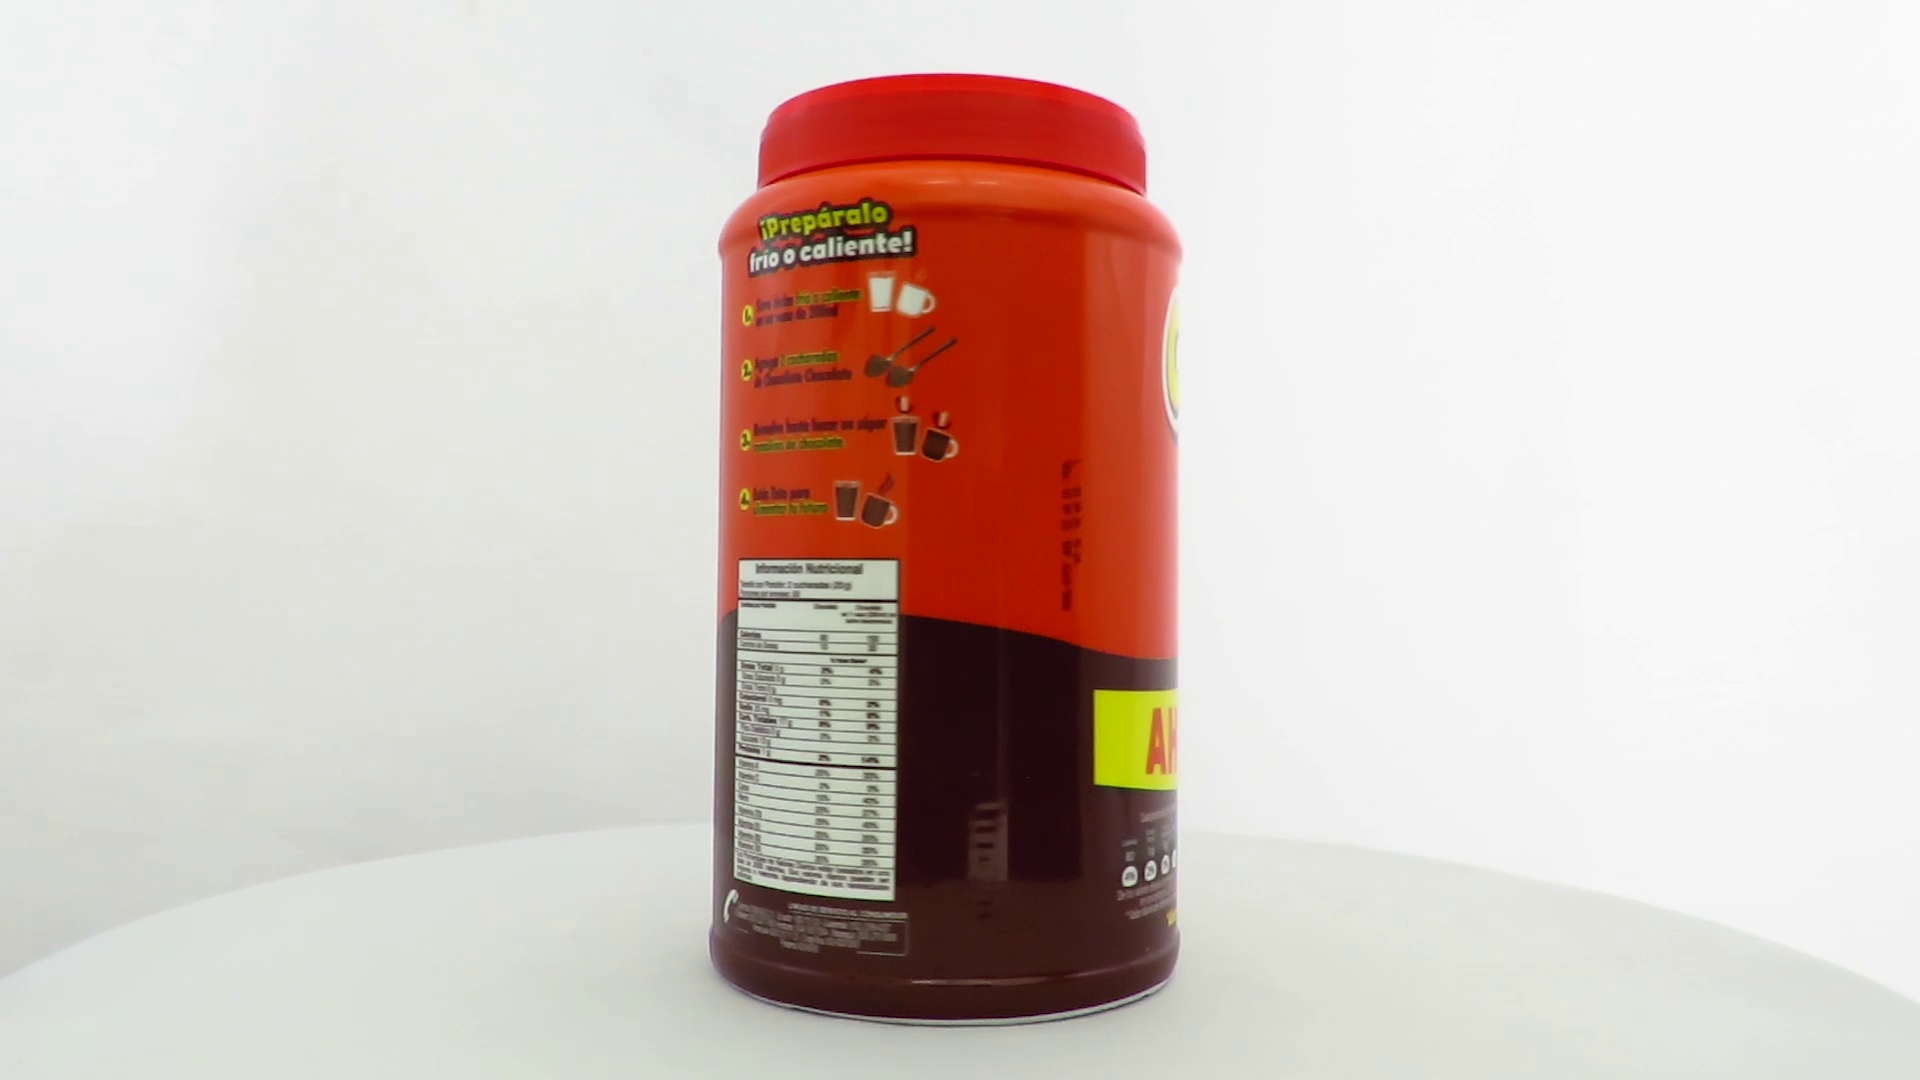COL0170103TRR00100: (704, 69, 1187, 1034)
